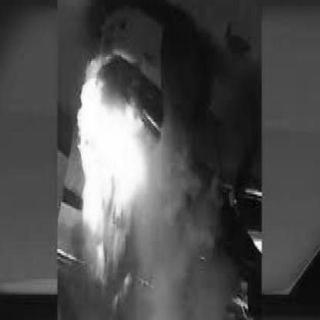Fire: (74, 75, 152, 293)
Smoke: (144, 150, 198, 308)
